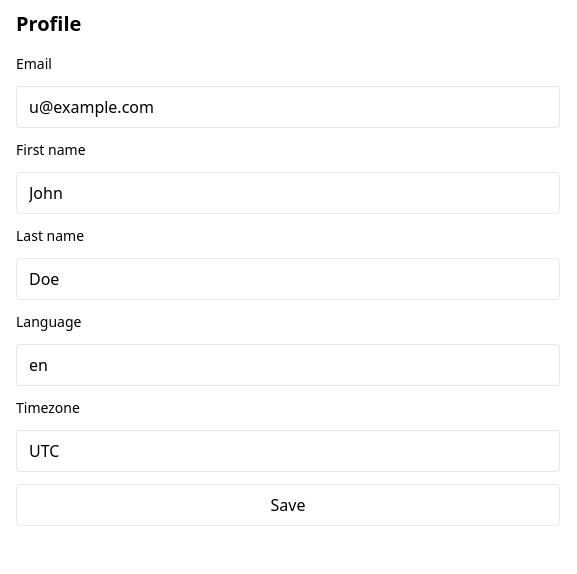
Test: Profile page › loads and saves profile
Expected: the field showing "u@example.com" is shown, [16, 86, 560, 128]
Replace the text in the field with test id "firstName" with "Jane" at (288, 193), box [16, 172, 560, 214]
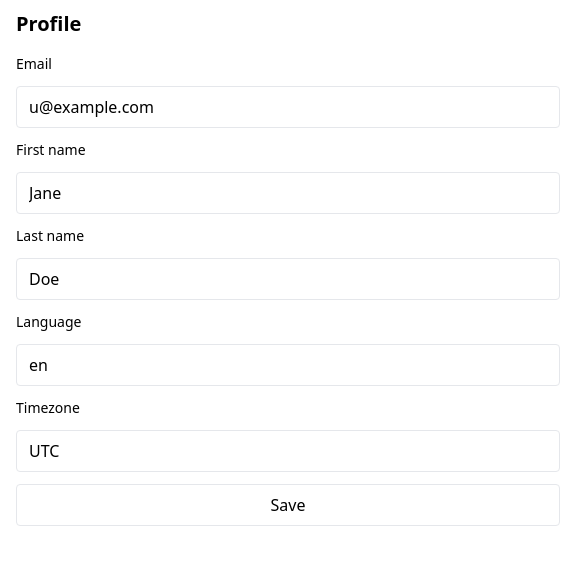
Click the button with test id "save" at (288, 505), box [16, 484, 560, 526]
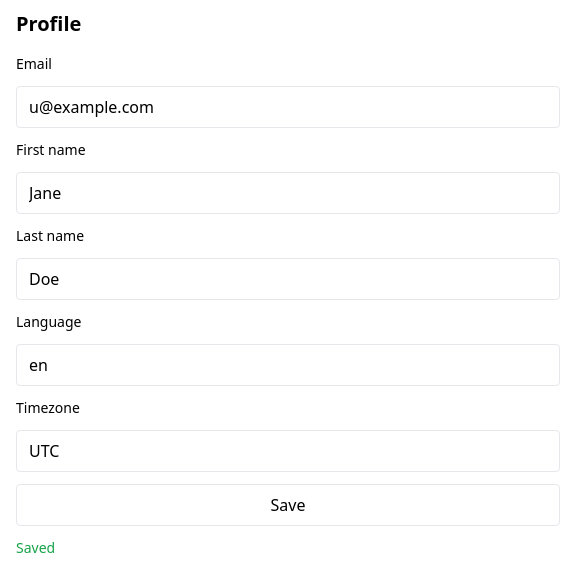
Now the message "Saved" is shown, box [16, 538, 55, 557]
